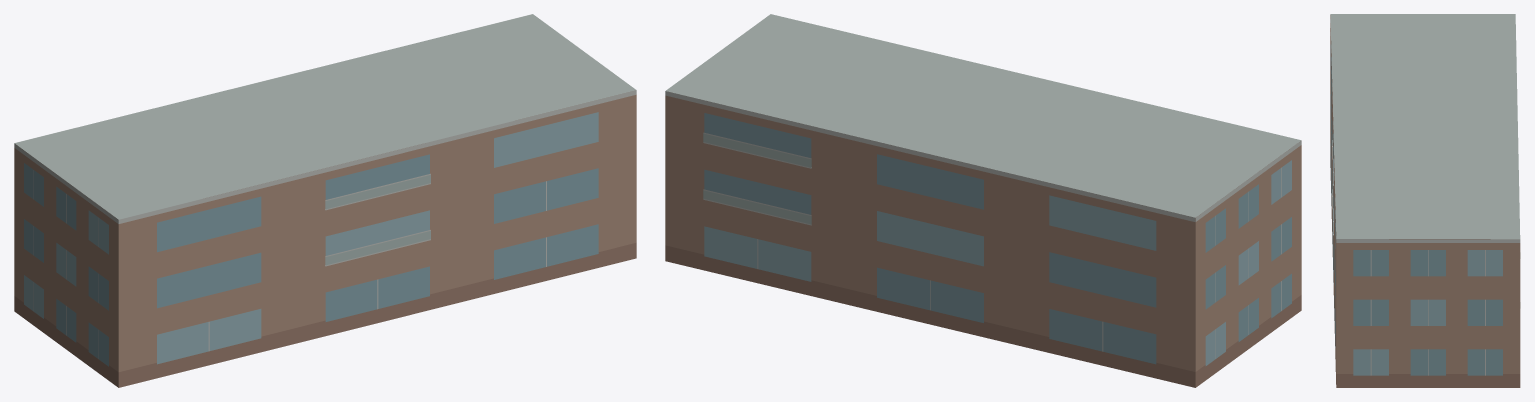
The model's file is survey-upis-32610870.glb.
3 renders of one model, left to right at view 1: azimuth 30°, elevation 25°; view 2: azimuth 150°, elevation 25°; view 3: azimuth 270°, elevation 25°, orthographic. The views are drawn at different scales.
Visible parts, largest first — view 1: survey-upis-32610870.tmp; view 2: survey-upis-32610870.tmp; view 3: survey-upis-32610870.tmp.
Boxes of the visible parts, <box> form: survey-upis-32610870.tmp: <box>14,14,636,387</box>; survey-upis-32610870.tmp: <box>665,14,1301,387</box>; survey-upis-32610870.tmp: <box>1330,14,1520,387</box>.
Size of the model in its own units: 29.71 by 9.15 by 10.61.
